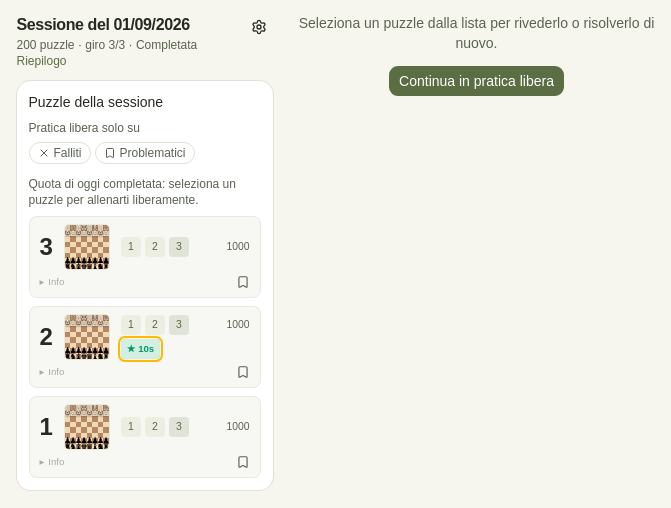
Test case: SessionDetailPage free practice › continues after the last puzzle practiced in this session
Click the button "Continua in pratica libera".
click(477, 81)  # box [388, 65, 565, 97]
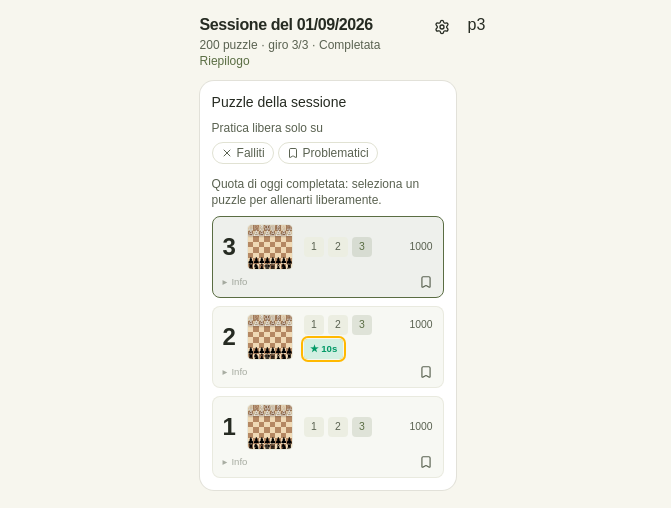
Expected: the text with test id "puzzle-board" reads "p3", [468, 16, 485, 33]
